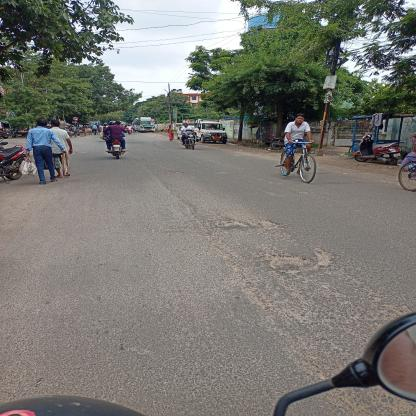bicycle: (267, 134, 332, 192), (385, 146, 416, 198)
